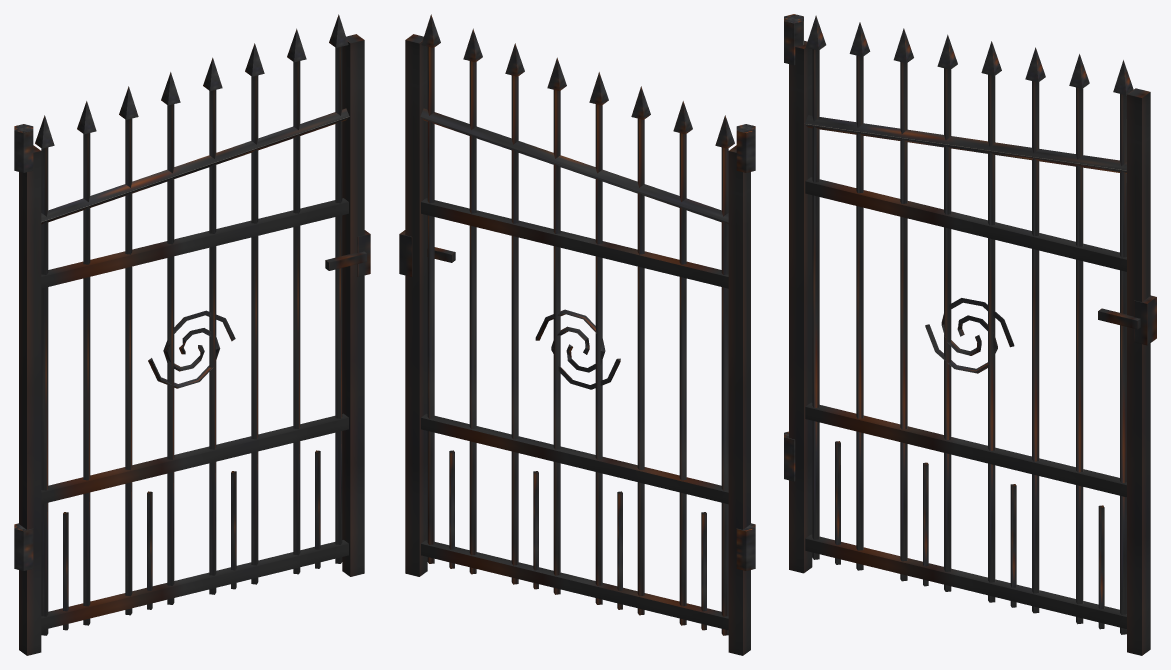
Rendered from gate_wicket.obj.
3 views of the same model, side by side, from view 1: azimuth 30°, elevation 25°; view 2: azimuth 150°, elevation 25°; view 3: azimuth 330°, elevation 25° (orthographic). The views are drawn at different scales.
Parts seen in each view (by area): view 1: gate_wicket_leaf; view 2: gate_wicket_leaf, gate_wicket; view 3: gate_wicket_leaf, gate_wicket.
Part boxes in pixels (box(x1,y1,x2,y2)): gate_wicket_leaf: box(14, 14, 366, 655); gate_wicket_leaf: box(405, 14, 755, 655); gate_wicket: box(399, 230, 412, 276); gate_wicket_leaf: box(784, 14, 1150, 655); gate_wicket: box(1134, 295, 1156, 345).
Size of the model in its own units: 1.11 by 1.69 by 0.066.
1 material, 1 textured.
